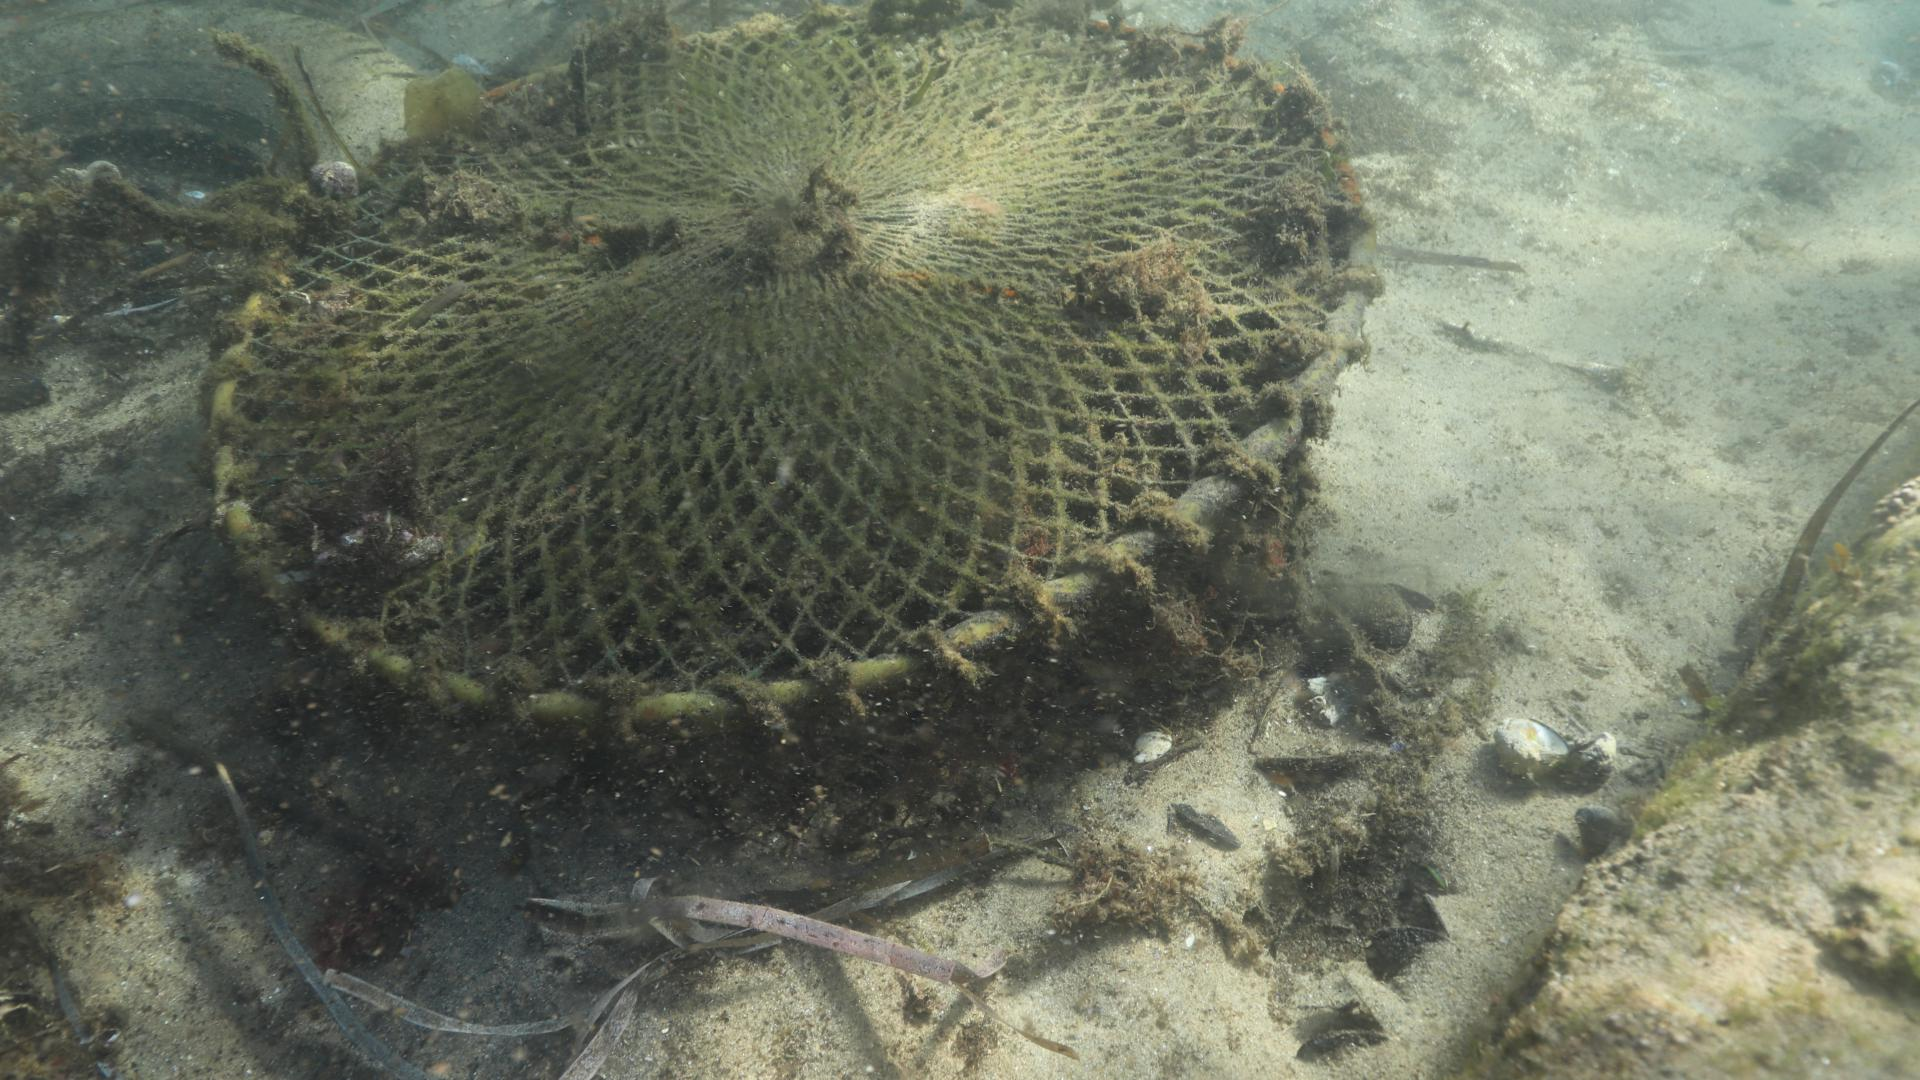circular fish trap: (211, 12, 1379, 814)
